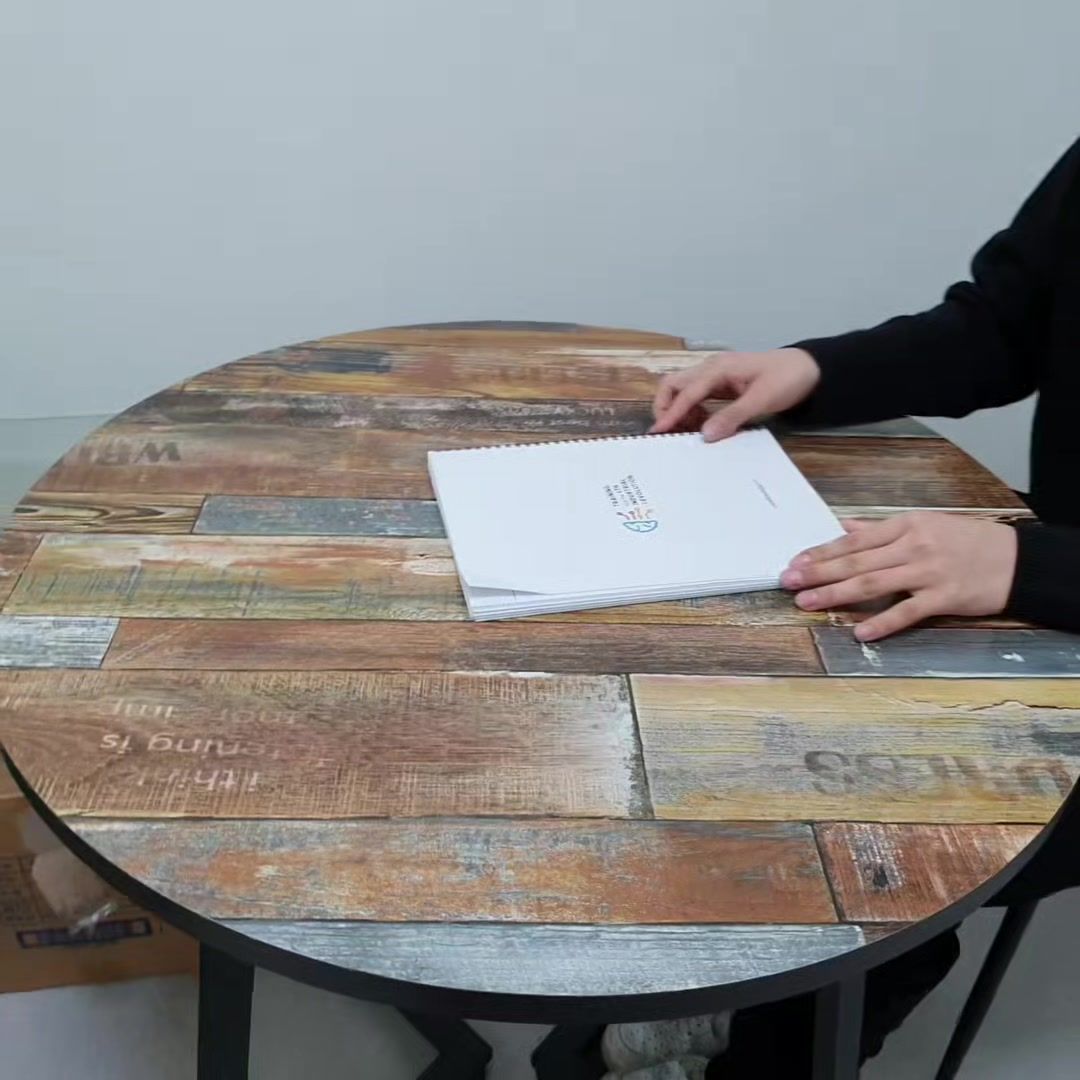book: (414, 424, 870, 611)
